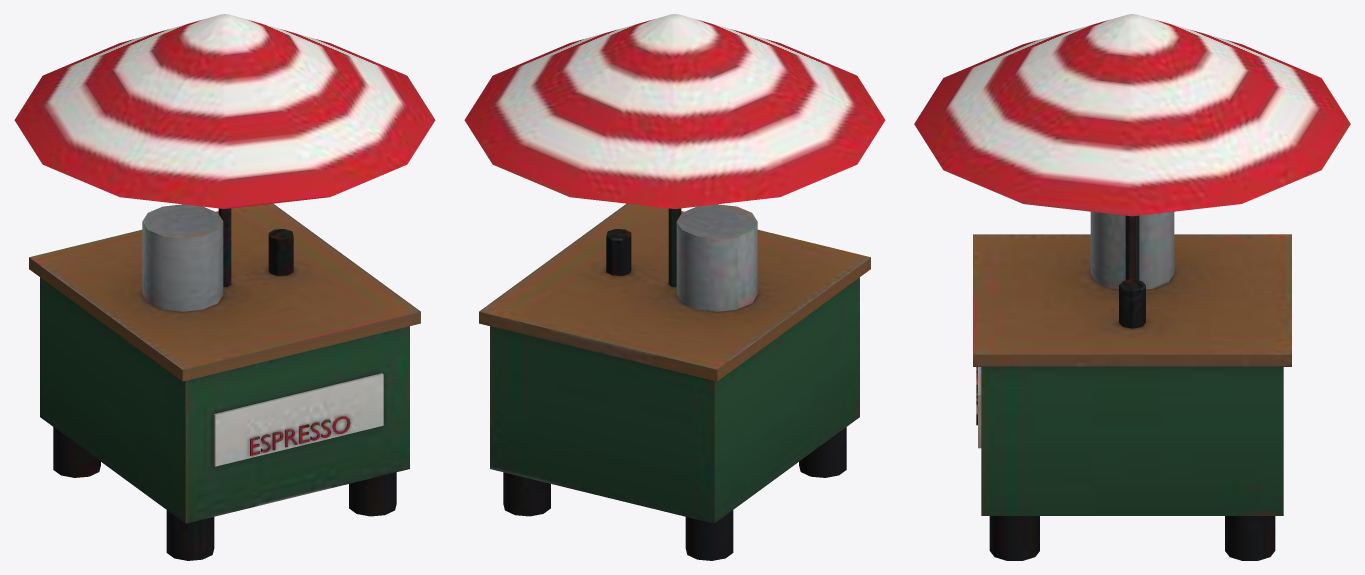
File: carrito_cafe.glb
3 views of the same model, side by side, from view 1: azimuth 30°, elevation 25°; view 2: azimuth 150°, elevation 25°; view 3: azimuth 270°, elevation 25° (orthographic). The views are drawn at different scales.
Visible parts, largest first — view 1: carrito_cafe; view 2: carrito_cafe; view 3: carrito_cafe.
Part boxes in pixels (x1,y1,x2,y2): carrito_cafe: (14,14,435,560); carrito_cafe: (464,14,885,560); carrito_cafe: (914,14,1350,560).
Size of the model in its own units: 2.6 by 3.2 by 2.6.
Materials: 1 (1 with a texture image).
